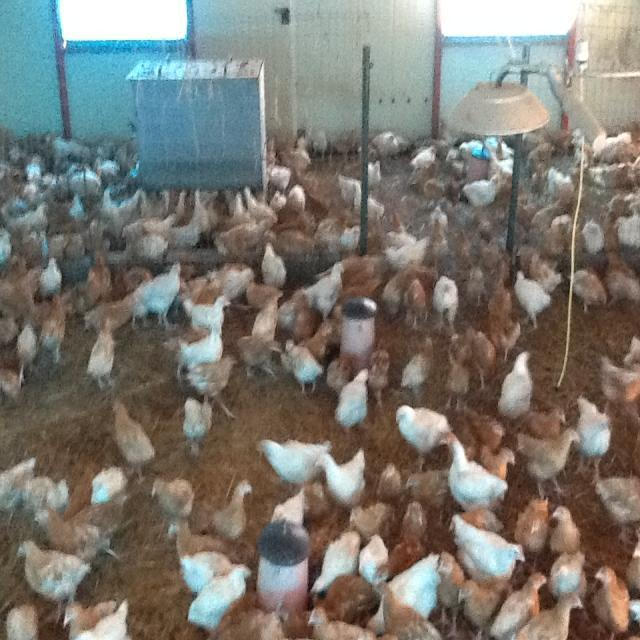poussin: (354, 551, 440, 639), (178, 549, 252, 635), (15, 538, 86, 624), (444, 433, 509, 522), (446, 512, 527, 574), (31, 503, 108, 566), (374, 578, 449, 640), (512, 427, 578, 495), (486, 573, 550, 640), (257, 433, 332, 489), (106, 398, 154, 482), (186, 348, 242, 417), (302, 526, 360, 592), (390, 399, 450, 462), (316, 573, 380, 631), (458, 573, 512, 640), (164, 319, 228, 372), (134, 262, 186, 327), (82, 284, 143, 338), (144, 474, 197, 536), (516, 594, 583, 640), (316, 452, 370, 509), (432, 544, 464, 640), (578, 391, 613, 478), (496, 349, 536, 421), (542, 550, 595, 604), (210, 478, 255, 541), (60, 601, 131, 640), (595, 561, 630, 640), (598, 474, 640, 537), (23, 465, 69, 522), (76, 488, 130, 536), (602, 236, 638, 308), (451, 323, 492, 386), (388, 502, 428, 564), (210, 214, 272, 254), (83, 319, 119, 387), (0, 257, 42, 315), (600, 342, 640, 402), (0, 454, 34, 524), (334, 366, 372, 428), (483, 296, 522, 356), (226, 600, 283, 640), (198, 264, 255, 304), (304, 606, 371, 640), (514, 500, 554, 556), (404, 466, 450, 514), (41, 292, 70, 368), (516, 240, 560, 290), (286, 338, 325, 394), (170, 524, 234, 558), (270, 484, 324, 524), (399, 339, 436, 396), (237, 329, 280, 377), (382, 232, 436, 270), (181, 392, 213, 456), (348, 496, 393, 541), (309, 262, 349, 312), (183, 293, 232, 332), (514, 269, 546, 328), (250, 288, 286, 340), (566, 130, 602, 182), (49, 134, 95, 174), (444, 340, 472, 405), (462, 417, 506, 458), (278, 288, 314, 338), (591, 128, 638, 166), (524, 401, 568, 441), (460, 172, 506, 209), (122, 226, 172, 260), (597, 156, 640, 195), (566, 264, 602, 310), (278, 128, 314, 174), (550, 503, 582, 554), (356, 532, 393, 576), (0, 232, 53, 262), (368, 338, 391, 407), (547, 162, 580, 210), (92, 464, 126, 510), (4, 602, 42, 640), (343, 272, 388, 304), (242, 188, 278, 228), (10, 202, 50, 238), (192, 183, 222, 229), (348, 186, 386, 221), (15, 320, 38, 377), (595, 204, 624, 249), (323, 349, 357, 387), (123, 180, 151, 226), (32, 174, 68, 209), (260, 242, 287, 288), (374, 454, 402, 498), (304, 316, 338, 352), (434, 274, 460, 321), (480, 448, 516, 481), (485, 138, 512, 182), (88, 253, 112, 302), (580, 214, 610, 253), (524, 138, 554, 175), (386, 212, 416, 249), (457, 229, 482, 273), (172, 212, 206, 244), (404, 273, 424, 327), (63, 221, 88, 264), (614, 209, 640, 250), (150, 184, 178, 222), (556, 213, 588, 246), (228, 192, 254, 232), (147, 205, 178, 238), (42, 256, 64, 302), (100, 190, 125, 230), (430, 217, 452, 260), (68, 164, 100, 193), (464, 266, 488, 304), (284, 178, 308, 216), (374, 124, 400, 158), (266, 160, 294, 190), (411, 140, 437, 172), (177, 186, 195, 230), (334, 128, 362, 156), (85, 216, 108, 249), (17, 176, 41, 207), (424, 200, 448, 230), (441, 143, 464, 174), (0, 362, 19, 399), (100, 149, 126, 176), (48, 229, 68, 264), (21, 157, 50, 181), (338, 222, 363, 249), (311, 128, 332, 160), (531, 162, 551, 193), (70, 192, 88, 226), (334, 176, 361, 194), (268, 188, 286, 213), (368, 157, 382, 187)
